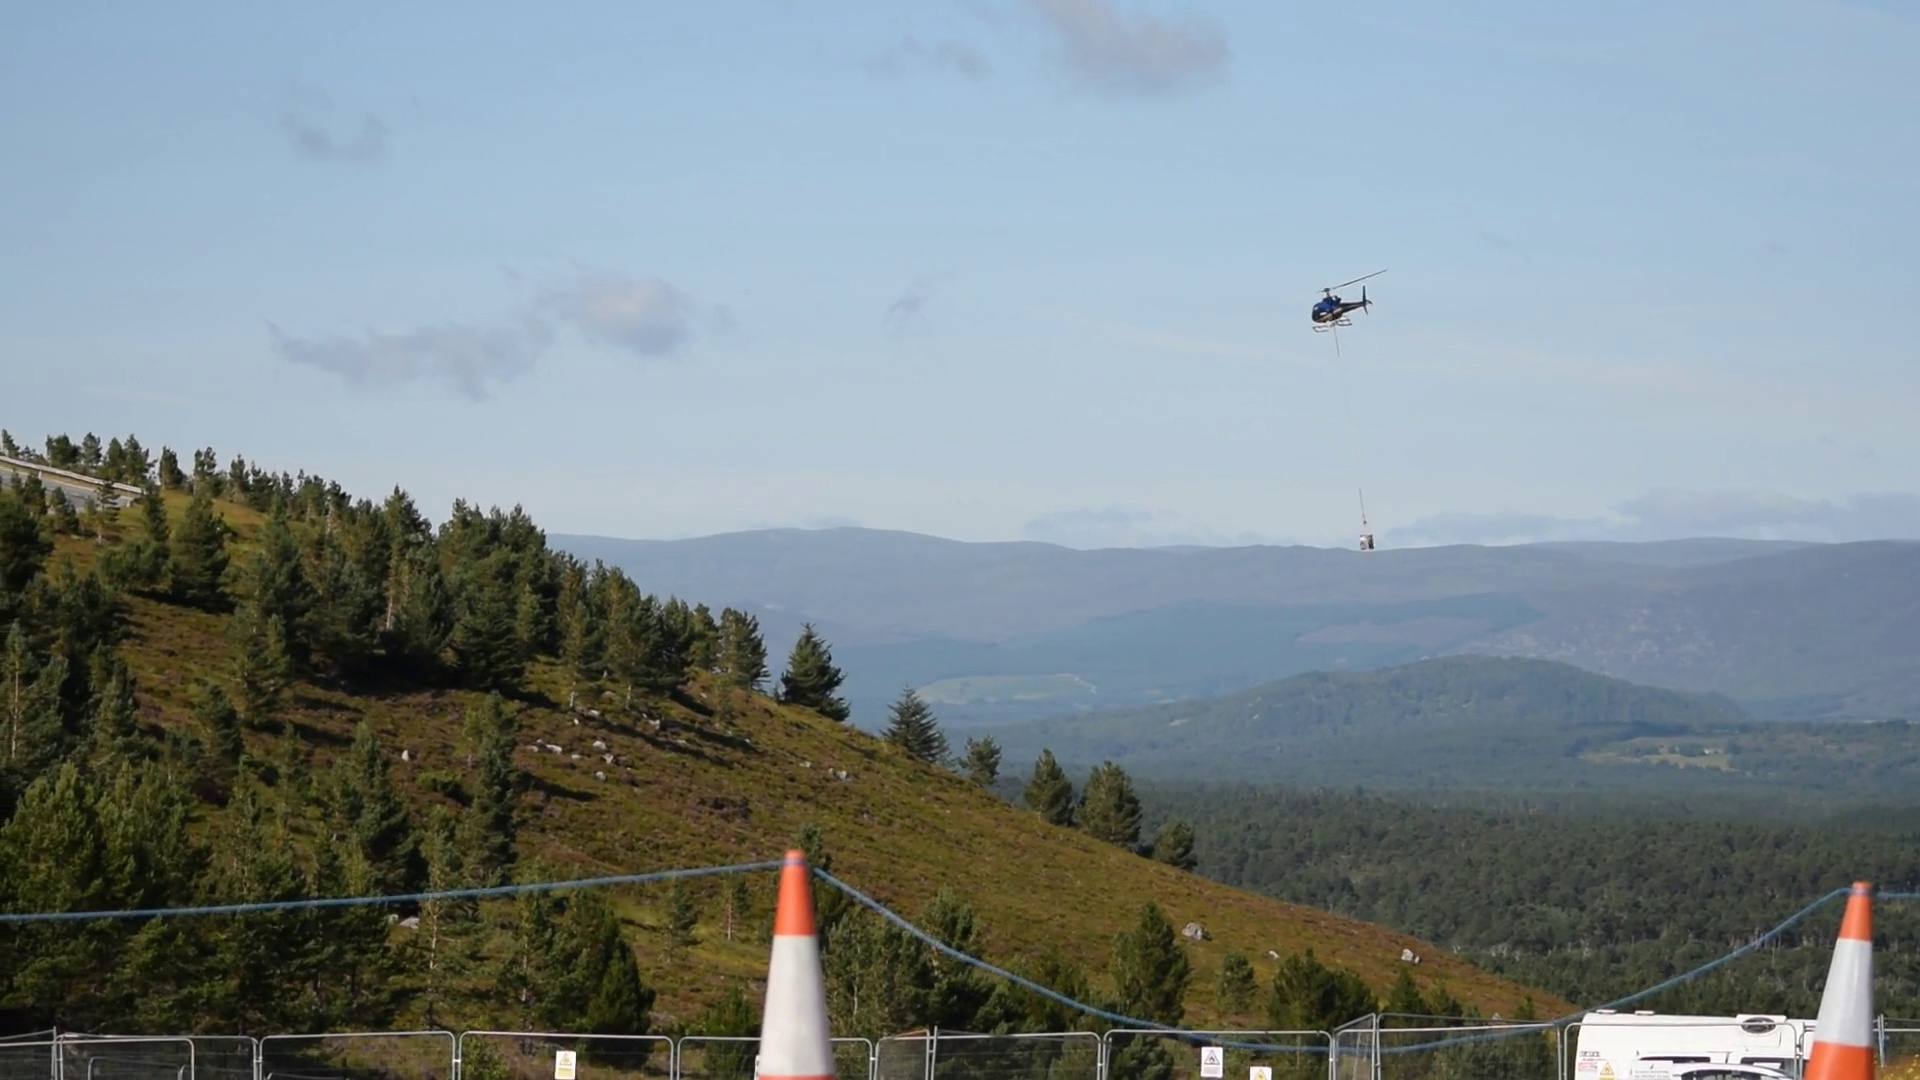heli: (1305, 269, 1386, 332)
